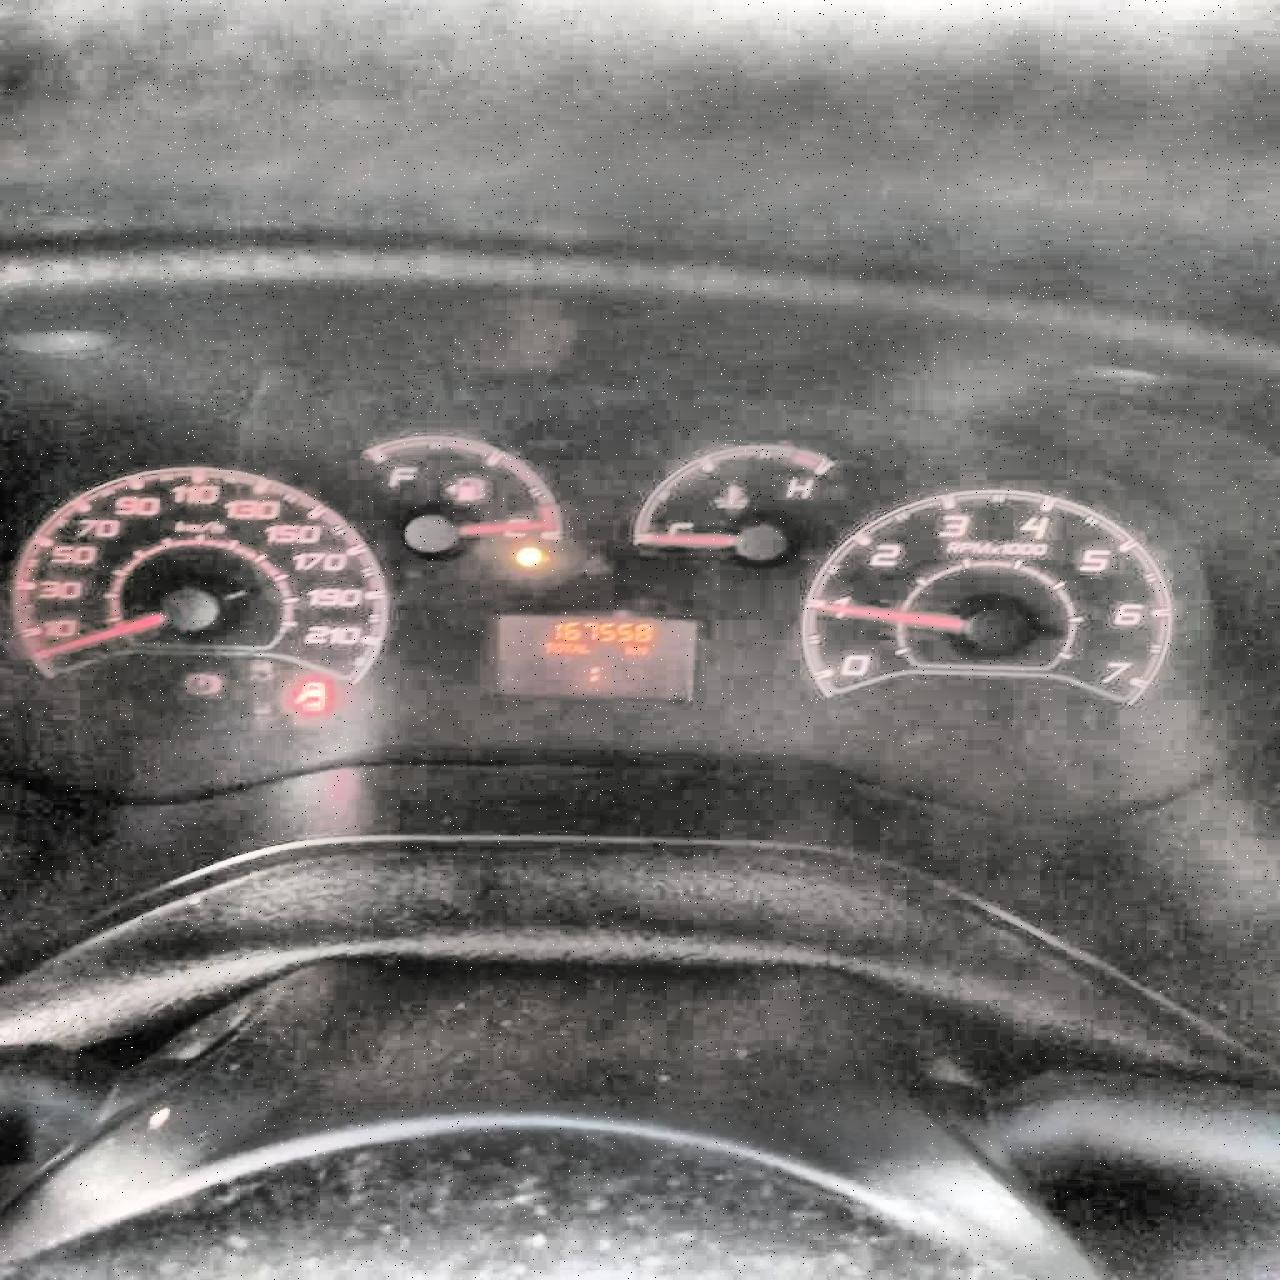1: (550, 621, 561, 639)
5: (614, 621, 633, 642), (598, 620, 614, 641)
6: (561, 620, 581, 640)
7: (581, 620, 597, 640)
8: (633, 622, 652, 642)
X: (587, 663, 600, 682), (621, 644, 633, 654), (540, 640, 552, 651), (560, 641, 570, 653), (633, 645, 645, 654), (570, 642, 578, 654), (580, 642, 588, 653), (553, 642, 561, 653)
odometer: (486, 607, 703, 703)
